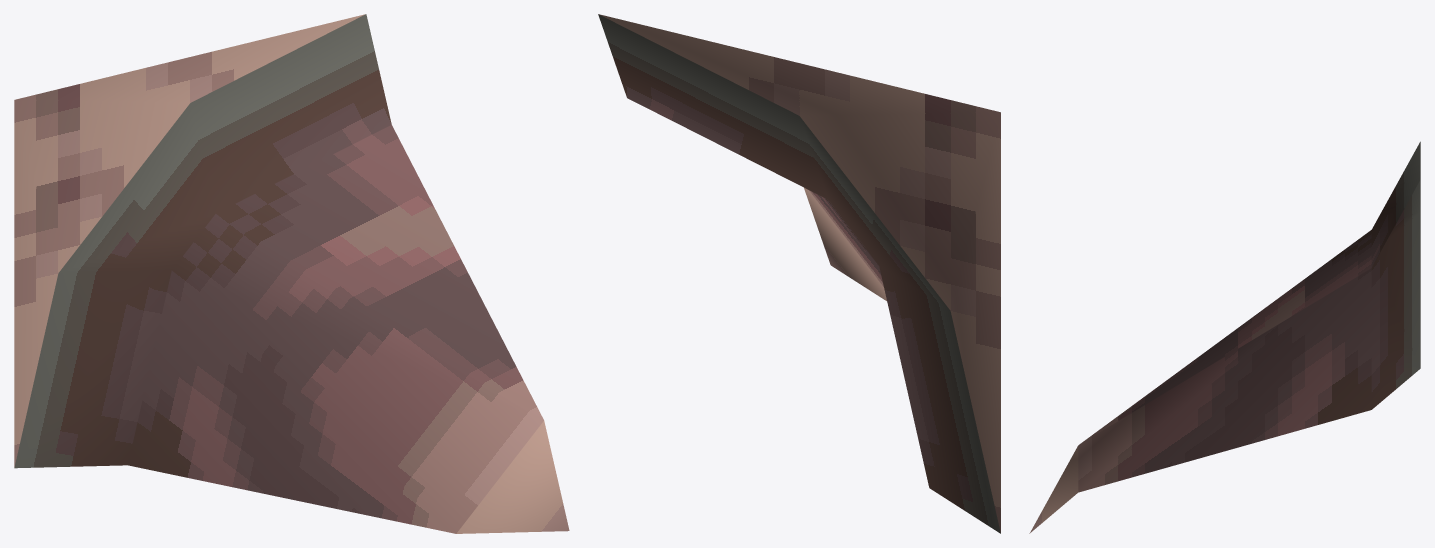
File: Mountain_ground_bot_bl.obj
3 views of the same model, side by side, from view 1: azimuth 30°, elevation 25°; view 2: azimuth 150°, elevation 25°; view 3: azimuth 270°, elevation 25° (orthographic). The views are drawn at different scales.
Visible parts, largest first — view 1: map; view 2: map; view 3: map.
Part boxes in pixels (bbox=[...]): map: bbox=[14, 14, 569, 533]; map: bbox=[598, 14, 1000, 533]; map: bbox=[1029, 141, 1420, 533].
Bounding box in the file's own units: 1 × 1 × 1.
2 materials, 2 textured.
